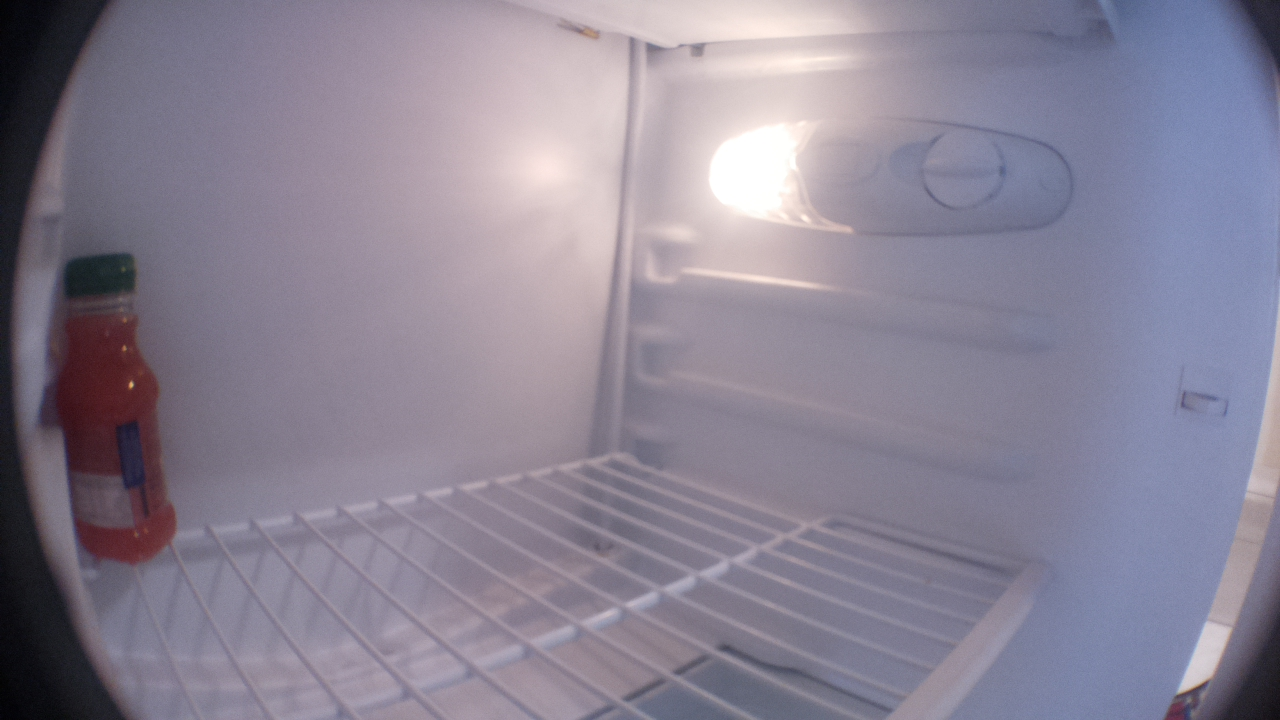juice: (55, 250, 181, 570)
